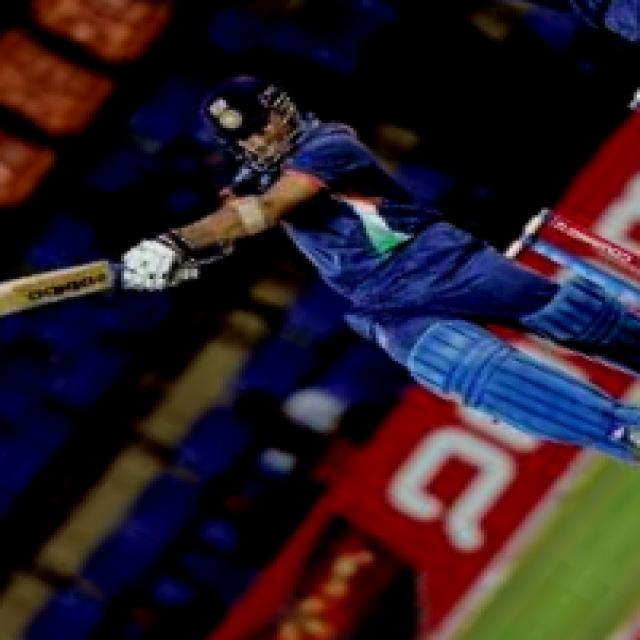toe: (0, 274, 18, 328)
